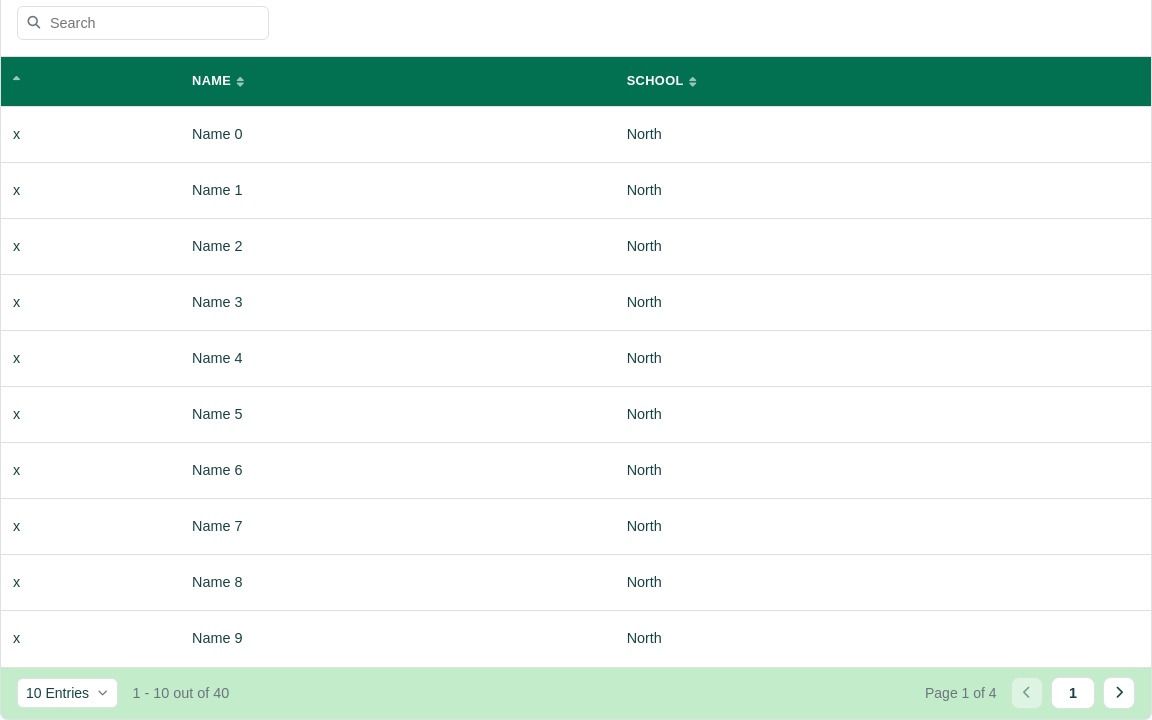
rows per page › offers All by default, as every other table does
Press the mouse on the element with class "app-select" at (68,693), box 17,678 -> 118,708
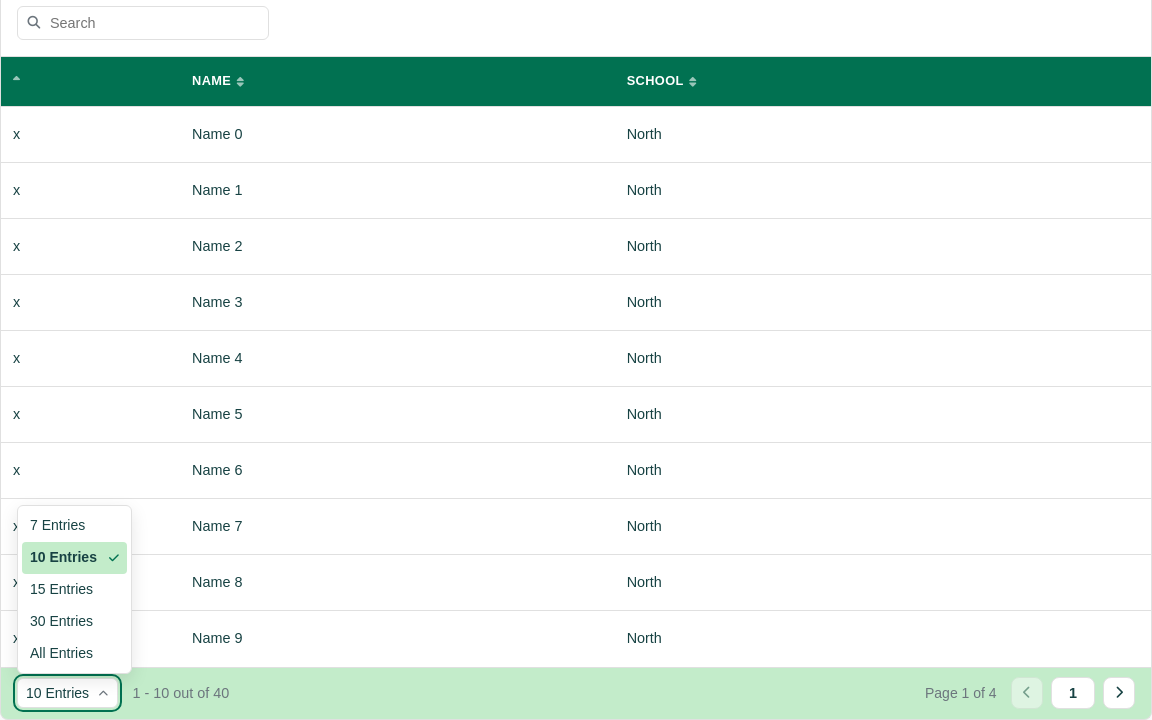
Check: the text "All Entries" is shown, box 30,642 -> 93,665
